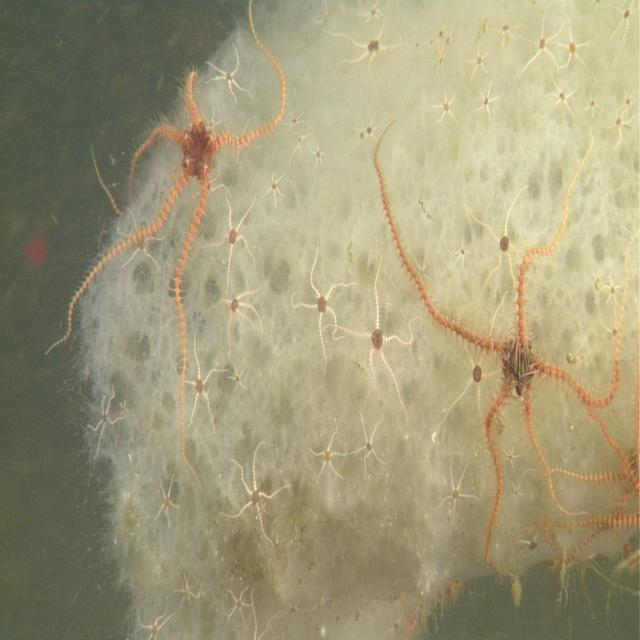Brittle Star: (368, 109, 630, 576), (38, 8, 289, 448), (332, 257, 420, 401), (218, 438, 292, 550), (324, 5, 415, 96), (288, 244, 358, 362), (202, 191, 264, 293), (172, 340, 228, 435), (204, 276, 268, 356), (516, 6, 568, 80), (305, 422, 350, 489), (556, 16, 596, 78), (132, 599, 180, 640), (419, 8, 454, 59), (604, 0, 639, 47), (546, 75, 580, 122), (429, 86, 462, 131), (472, 78, 501, 124)
Not Brittle Star: (67, 6, 633, 617)
